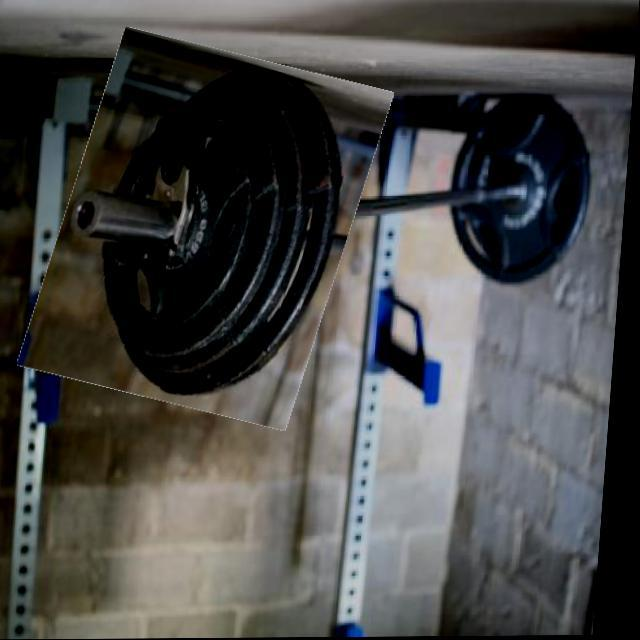barbell: (40, 41, 381, 419)
